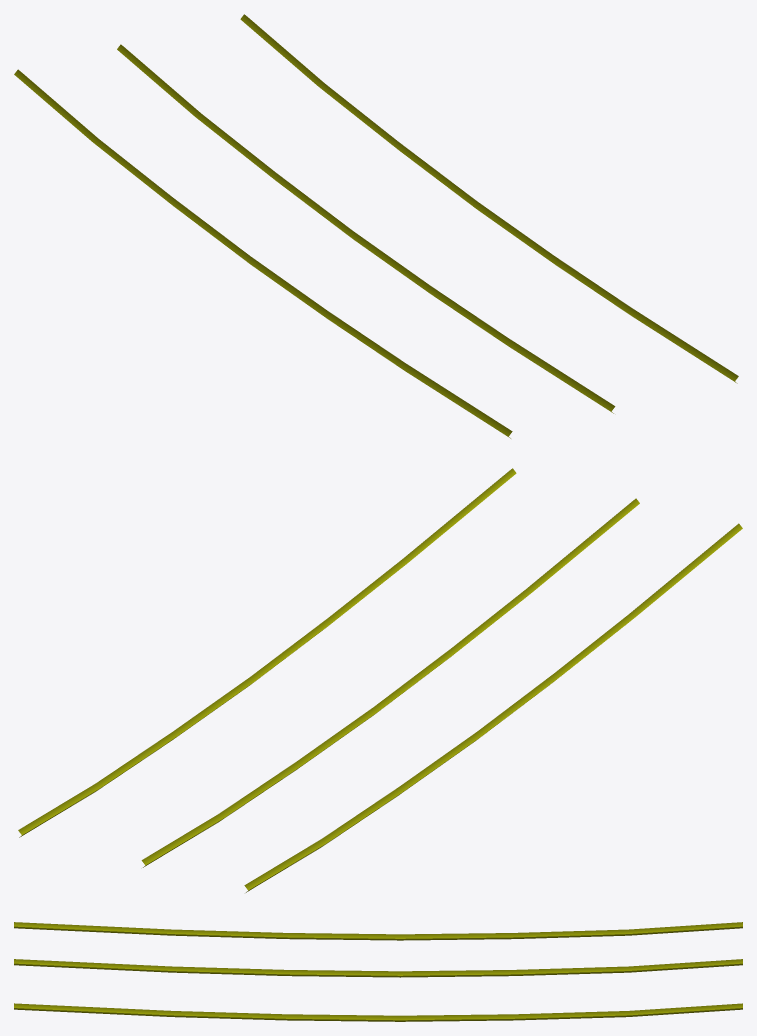
Rendered from TelegraphWires.glb.
The picture shows the model from 3 angles, top to bottom: view 1: azimuth 30°, elevation 25°; view 2: azimuth 150°, elevation 25°; view 3: azimuth 270°, elevation 25°; orthographic projection. The views are drawn at different scales.
Parts seen in each view (by area): view 1: TelegraphWires; view 2: TelegraphWires; view 3: TelegraphWires.
Boxes of the visible parts, x1=… form: TelegraphWires: x1=14, y1=14, x2=738, y2=438; TelegraphWires: x1=18, y1=468, x2=742, y2=892; TelegraphWires: x1=14, y1=922, x2=742, y2=1021.
Size of the model in its own units: 2.03 by 0.2075 by 7.44.
Materials: 4 (4 with a texture image).
